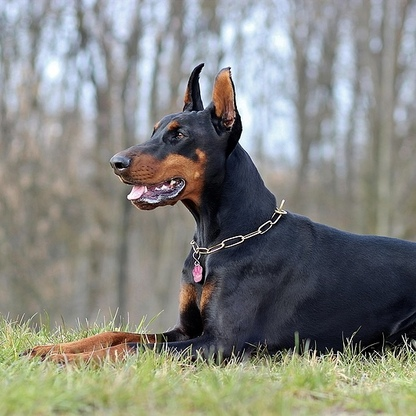doberman: (109, 60, 416, 353)
